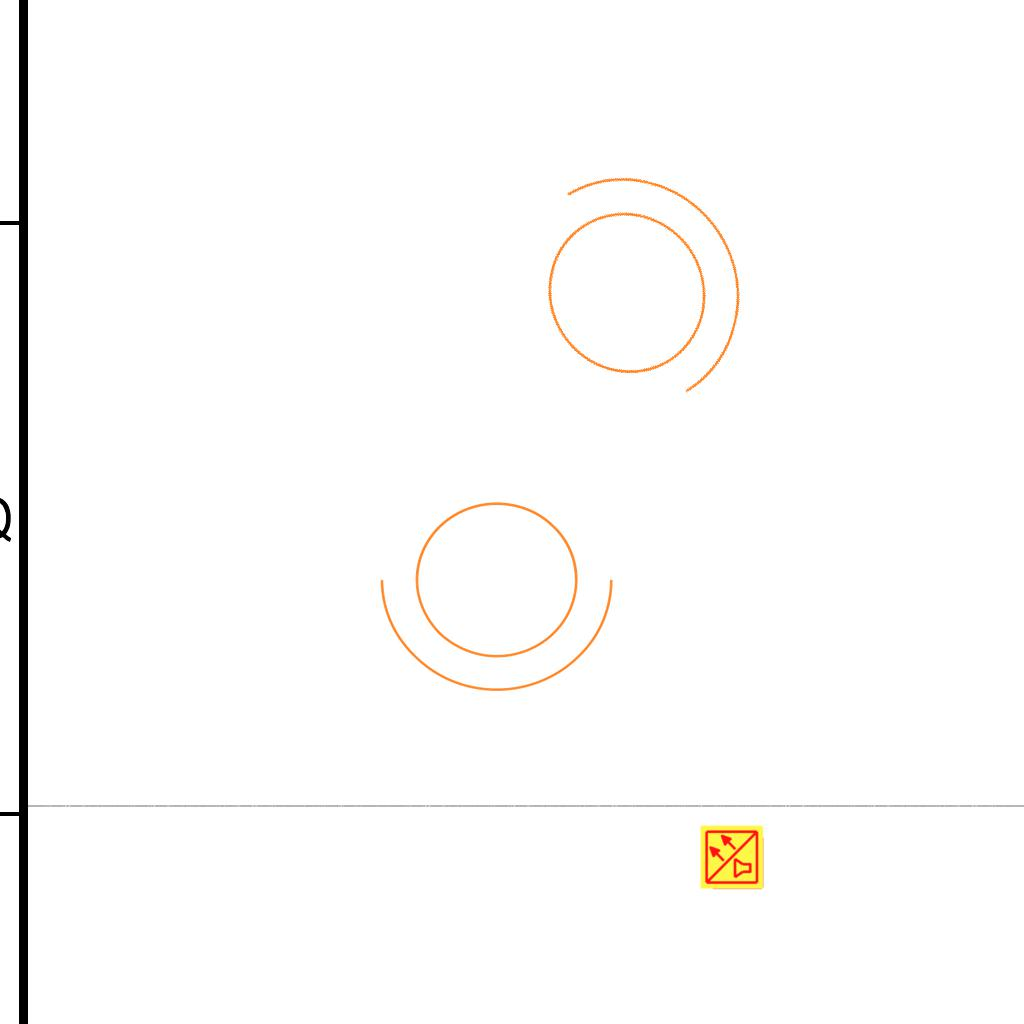OKW_Multisensormelder_(Kombination_optischer_Rauch-Kahlenmonoxid_Waerme-Melder): (699, 824, 765, 890)
Scheinwerfer_fuer_Alarmbeleuchtung: (467, 111, 797, 454), (371, 477, 635, 702)
